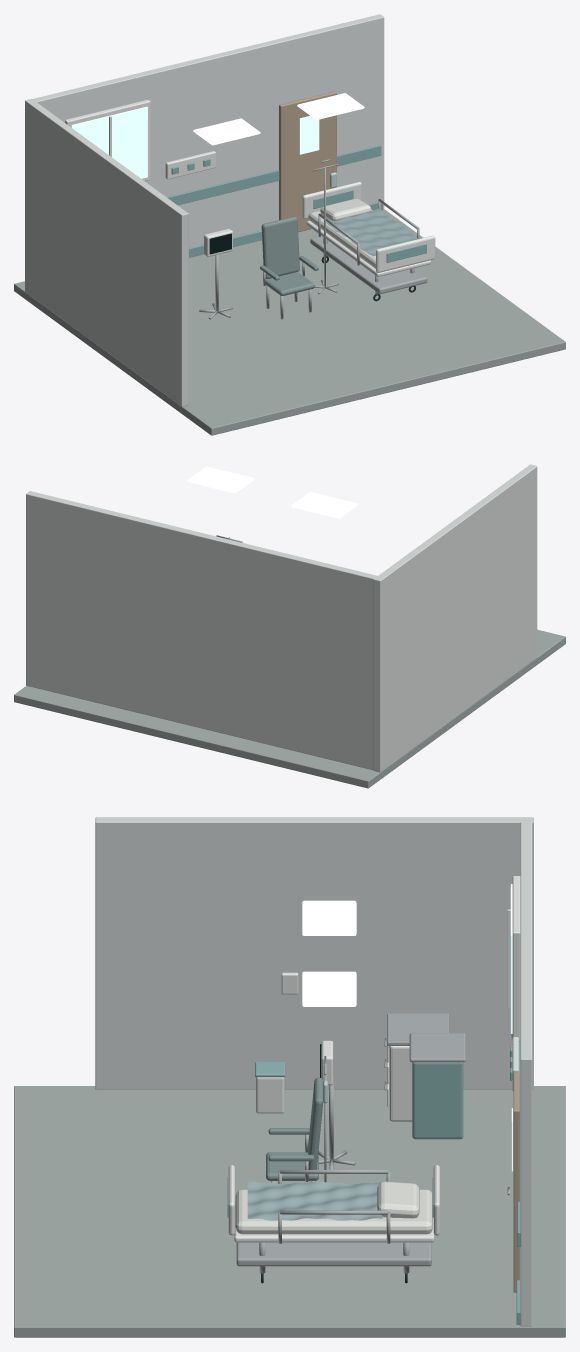
Rendered from acute.glb.
3 renders of one model, top to bottom at view 1: azimuth 30°, elevation 25°; view 2: azimuth 150°, elevation 25°; view 3: azimuth 270°, elevation 25°, orthographic. The views are drawn at different scales.
Parts seen in each view (by area): view 1: RoomFloor, BackWall, LeftWall, Door, WindowGlass, FoldedCover, ChairBack, WallProtectionBand, BedUnderframe, BedEndBoard, CeilingLuminaire, CeilingLuminaire.001 (+9 smaller); view 2: BackWall, LeftWall, RoomFloor, CeilingLuminaire.001, CeilingLuminaire; view 3: RoomFloor, LeftWall, BackWall, BedUnderframe, FoldedCover, EmergencyTrolley, Mattress, CeilingLuminaire.001, CeilingLuminaire, MattressBase, Cabinet, TrolleyTray (+7 smaller).
Part boxes in pixels (bbox=[...]): RoomFloor: bbox=[14, 209, 565, 435]; BackWall: bbox=[27, 14, 384, 247]; LeftWall: bbox=[25, 98, 188, 406]; Door: bbox=[279, 91, 336, 231]; WindowGlass: bbox=[71, 106, 147, 178]; FoldedCover: bbox=[326, 208, 417, 256]; ChairBack: bbox=[261, 216, 299, 278]; WallProtectionBand: bbox=[166, 145, 381, 205]; BedUnderframe: bbox=[310, 236, 427, 294]; BedEndBoard: bbox=[376, 235, 435, 272]; CeilingLuminaire: bbox=[193, 118, 260, 145]; CeilingLuminaire.001: bbox=[297, 93, 364, 119]; BackWall: bbox=[26, 491, 383, 770]; LeftWall: bbox=[373, 464, 537, 772]; RoomFloor: bbox=[14, 629, 565, 788]; CeilingLuminaire.001: bbox=[187, 466, 254, 493]; CeilingLuminaire: bbox=[291, 492, 358, 518]; RoomFloor: bbox=[14, 1086, 565, 1337]; LeftWall: bbox=[95, 817, 533, 1089]; BackWall: bbox=[520, 818, 532, 1326]; BedUnderframe: bbox=[236, 1242, 431, 1266]; FoldedCover: bbox=[247, 1181, 382, 1220]; EmergencyTrolley: bbox=[412, 1062, 463, 1139]; Mattress: bbox=[235, 1189, 432, 1234]; CeilingLuminaire.001: bbox=[302, 971, 356, 1006]; CeilingLuminaire: bbox=[302, 900, 356, 935]; MattressBase: bbox=[234, 1201, 434, 1242]; Cabinet: bbox=[389, 1046, 412, 1121]; TrolleyTray: bbox=[409, 1033, 465, 1062].
Bounding box in the file's own units: 5.81 × 3.12 × 5.6.
